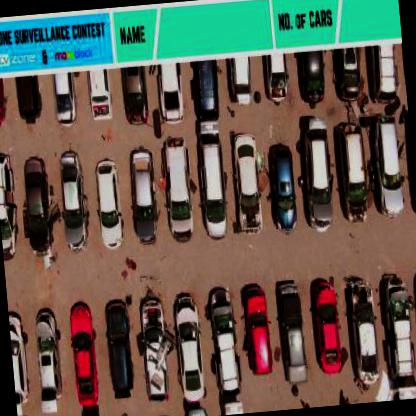car: (380, 273, 416, 384), (162, 144, 200, 248), (302, 121, 336, 232), (275, 286, 311, 387), (56, 154, 93, 249), (68, 301, 103, 400), (209, 291, 242, 395), (22, 158, 57, 254), (34, 312, 66, 414), (310, 287, 346, 377), (338, 129, 371, 225), (199, 146, 231, 242), (376, 123, 408, 216), (232, 142, 262, 240), (244, 281, 274, 376), (107, 306, 138, 395), (349, 291, 380, 380), (268, 150, 300, 236), (178, 312, 208, 401), (131, 156, 162, 242), (95, 162, 126, 246), (190, 58, 223, 124), (0, 162, 23, 255), (11, 318, 31, 404), (298, 50, 328, 106), (86, 69, 116, 125), (334, 46, 362, 106), (368, 46, 398, 102), (160, 62, 186, 124), (122, 69, 150, 125), (52, 73, 78, 129), (265, 53, 291, 106), (15, 78, 43, 125), (228, 58, 254, 106), (0, 78, 8, 124)
